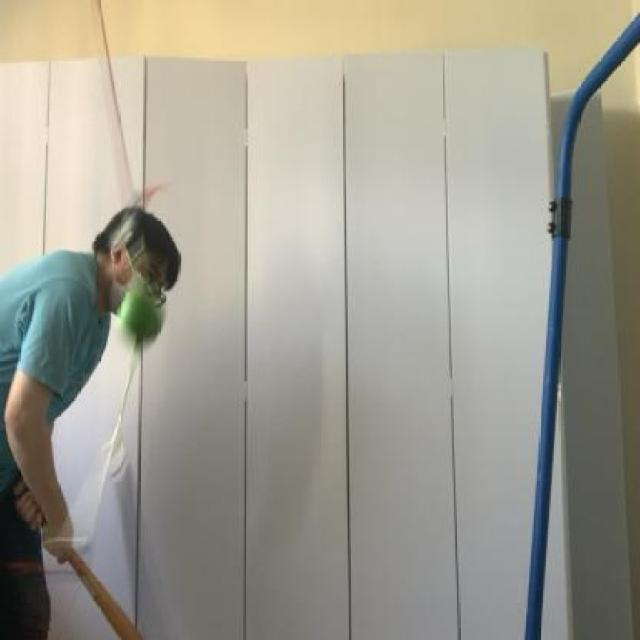baseball: (113, 274, 164, 349)
